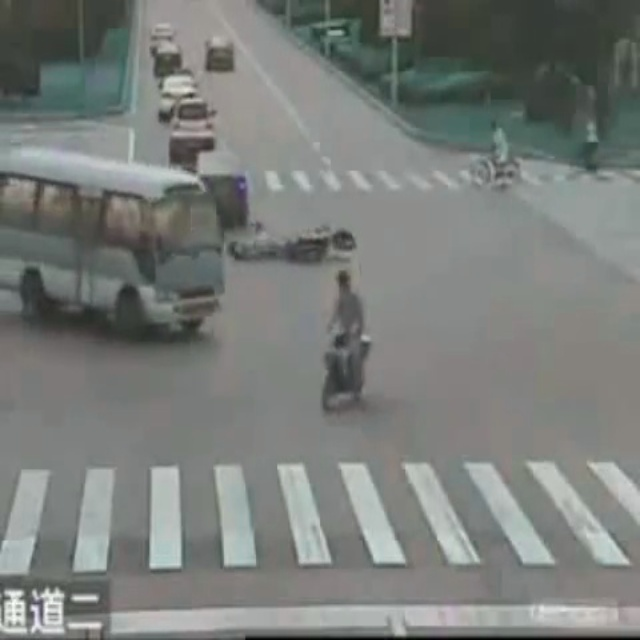acc: (220, 202, 371, 267)
